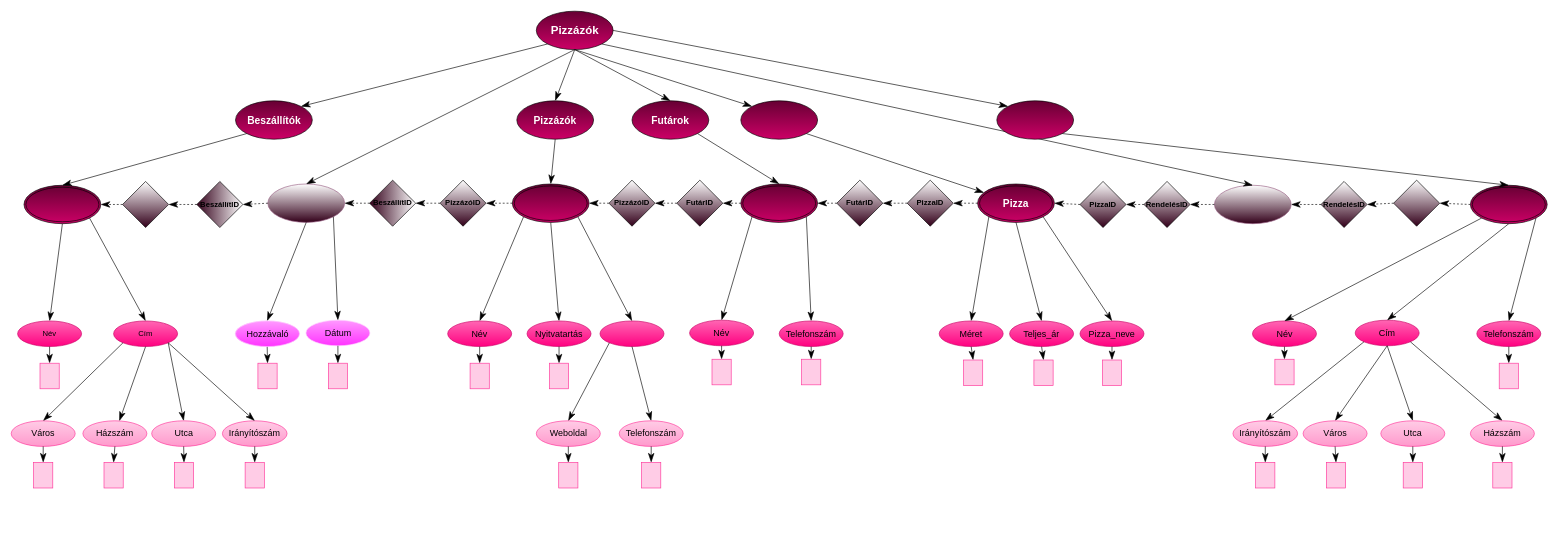
This 1558x546 diagram has some shape labels left out. The shapes that lost their labels are listed below. From the top down, each one's box as (x1, y1, x2, y2) in pixels, then its label:
(740, 100, 818, 139): Pizzák
(996, 100, 1074, 139): Vevők
(23, 185, 101, 224): Beszállító
(122, 181, 169, 228): BeszállítóID
(267, 183, 345, 222): Beszállítás
(512, 183, 589, 222): Pizzázó
(740, 183, 818, 222): Futár
(1214, 185, 1291, 224): Rendelés
(1393, 180, 1440, 226): VevőID
(1470, 185, 1547, 224): Vevő
(599, 320, 664, 347): Elérhetőség
